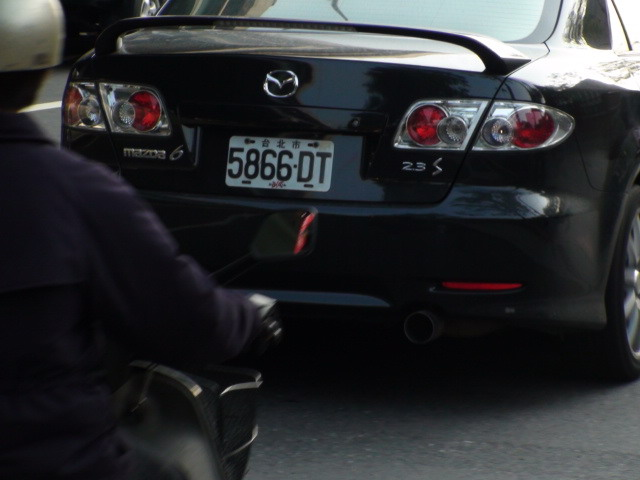plate: (224, 131, 337, 196)
